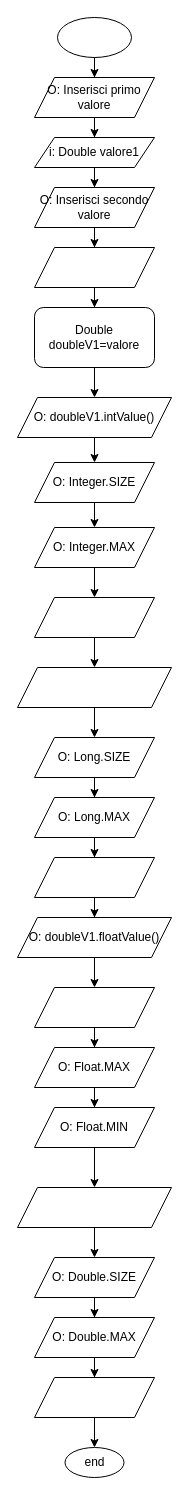
Some shapes in this 189 by 1495 pixel diagram are drawn without their labels. Each missing label, with the centre of its shape:
"i: Double valore2" goes at [94,267].
"O: Double.MIN" goes at [94,1397].
"O: doubleV1" goes at [94,1207].
"O: doubleV1.longValue()" goes at [94,687].
"O: Float.SIZE" goes at [94,1007].
"O: Integer.MIN" goes at [94,617].
"O: Long.MIN" goes at [94,877].
"start" goes at [94,37].
